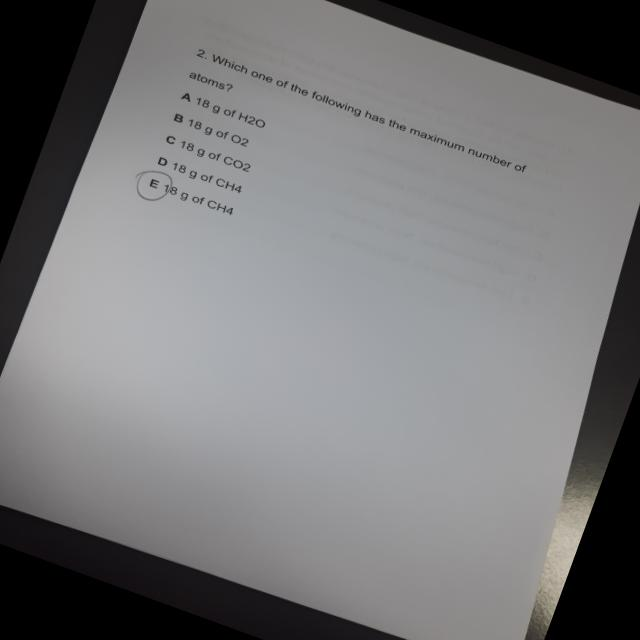E: (128, 164, 179, 211)
